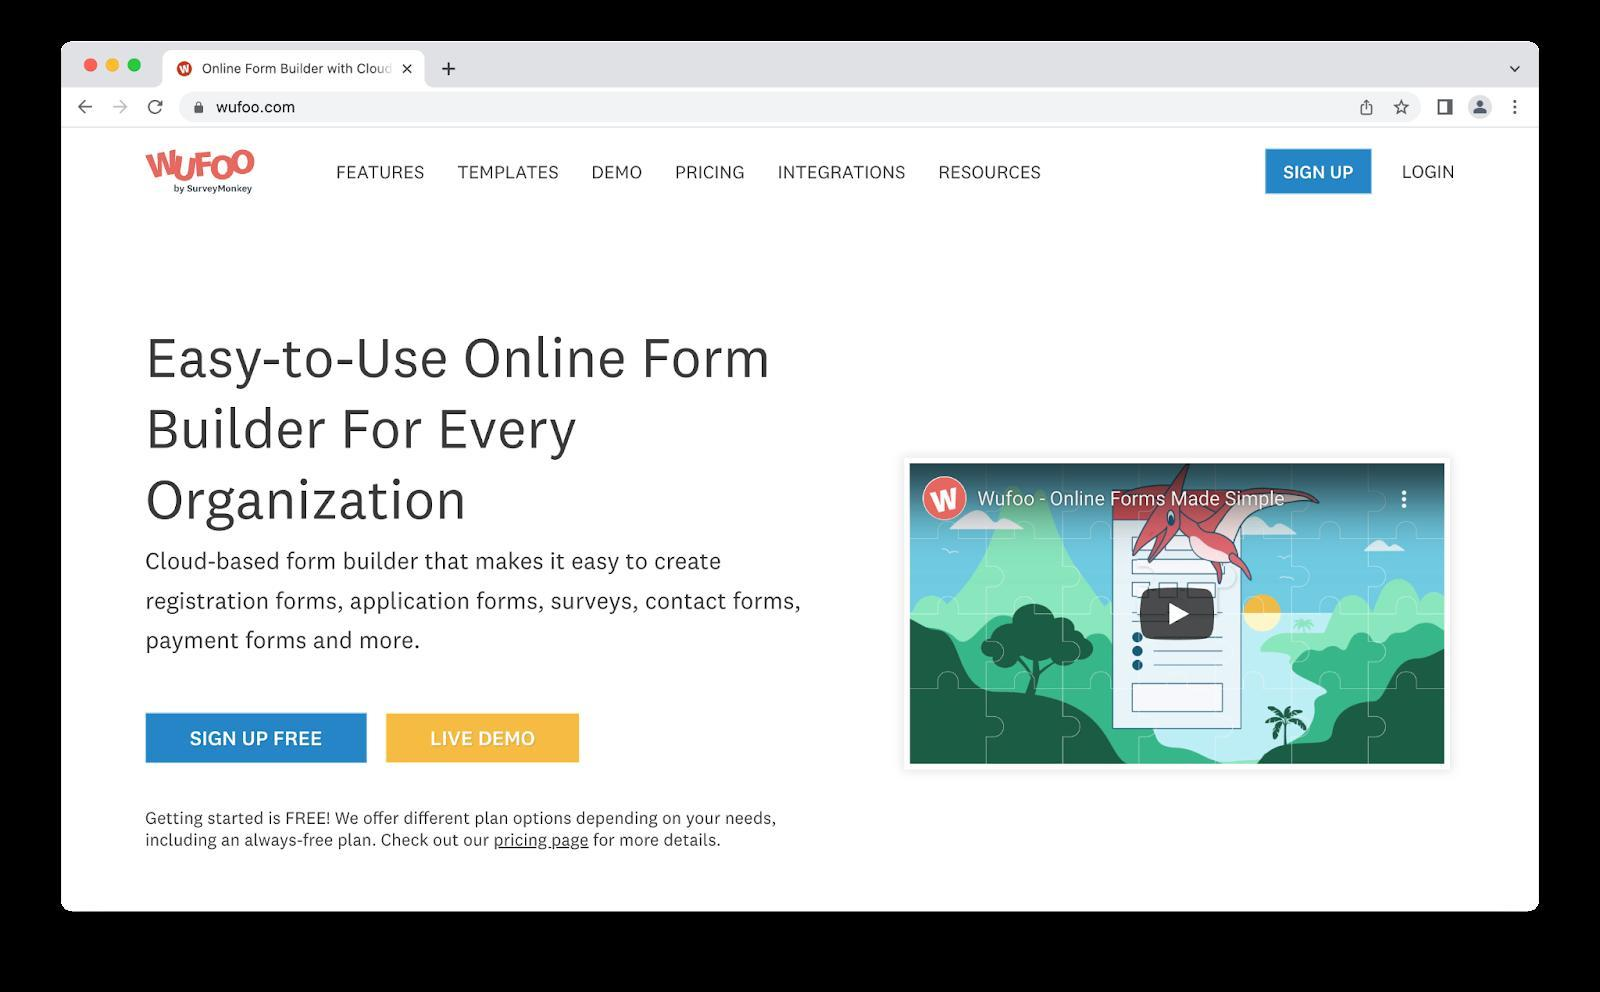button: (146, 713, 368, 765), (386, 712, 581, 766), (1267, 149, 1371, 195)
icon: (143, 141, 261, 198), (1467, 95, 1495, 123), (144, 97, 167, 120), (107, 98, 131, 120), (1360, 98, 1379, 122), (1397, 487, 1414, 513), (1435, 98, 1457, 119), (1505, 61, 1528, 80), (1394, 101, 1414, 121), (1509, 97, 1523, 123), (78, 101, 99, 118), (442, 61, 458, 79), (190, 101, 208, 117), (401, 65, 419, 80)
label: (776, 162, 907, 184), (456, 162, 562, 184), (938, 163, 1045, 183), (335, 163, 427, 184), (674, 161, 747, 184), (1400, 162, 1459, 184), (590, 162, 645, 184)
